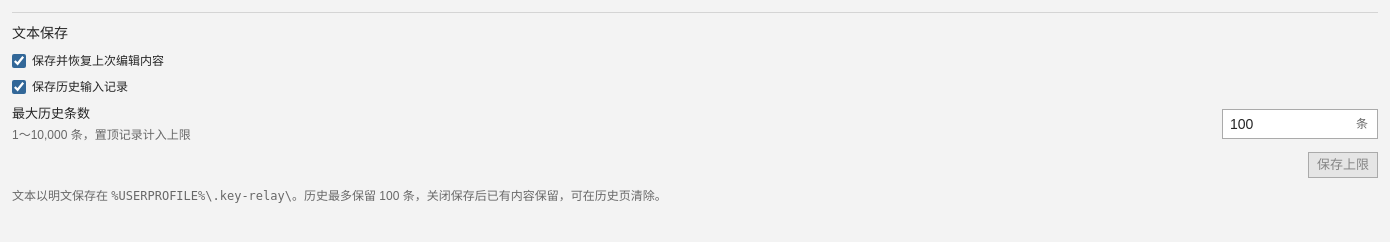
Test: maximum history preference › rejects invalid limit 0 without a mutation
Replace the text in the number field labelled "最大历史条数" with "0" at coordinates (1288, 124), box left=1223, top=110, right=1352, bottom=138
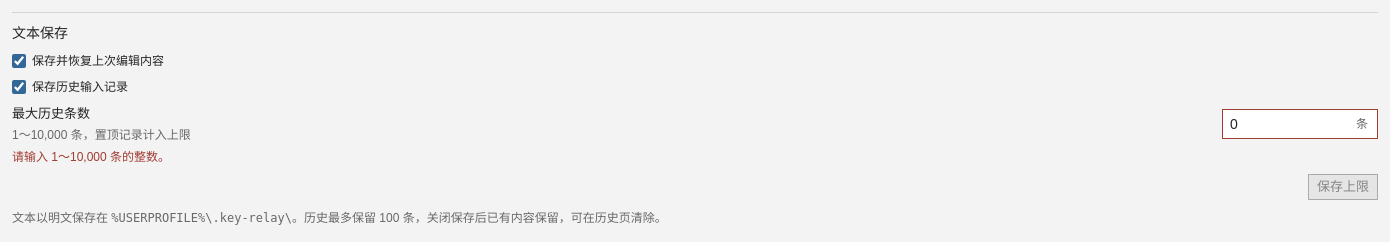
Expected: the button "保存上限" is disabled, left=1308, top=174, right=1378, bottom=200
Expected: the message shows "1～10,000", left=12, top=150, right=170, bottom=164
